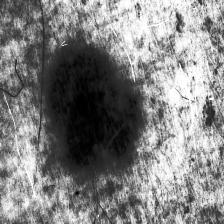Benign Marking or Mole: (42, 43, 150, 167)
